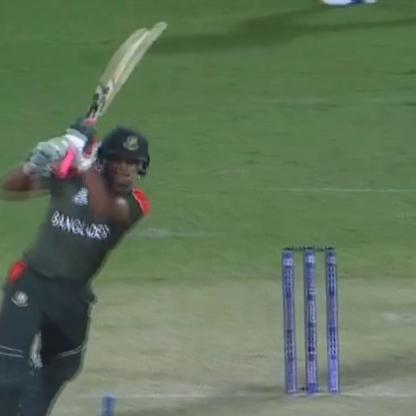bat: (74, 10, 164, 130)
